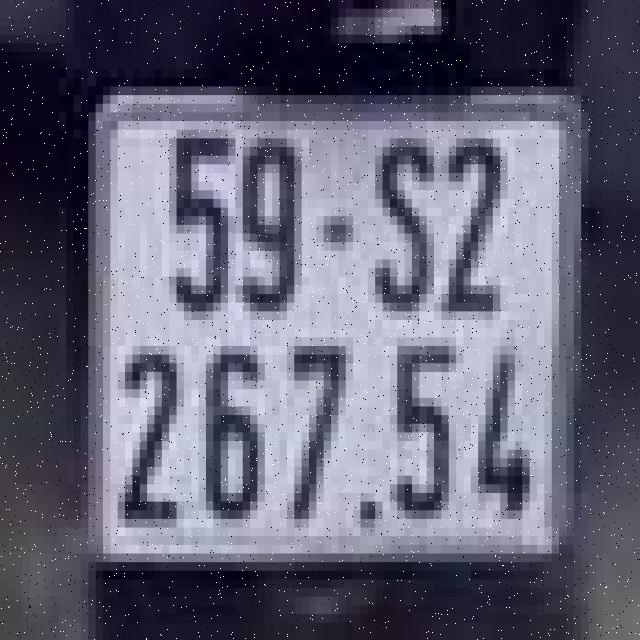2: (106, 333, 188, 541), (442, 130, 508, 320)
4: (467, 346, 541, 519)
5: (386, 333, 467, 532), (158, 121, 232, 311)
6: (198, 337, 280, 528)
7: (276, 337, 349, 528)
9: (235, 125, 309, 316)
S: (376, 130, 442, 328)
